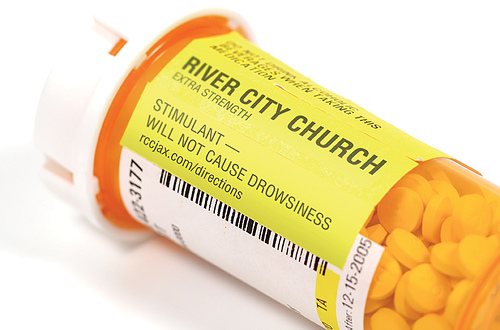pill bottle: (33, 4, 498, 330)
